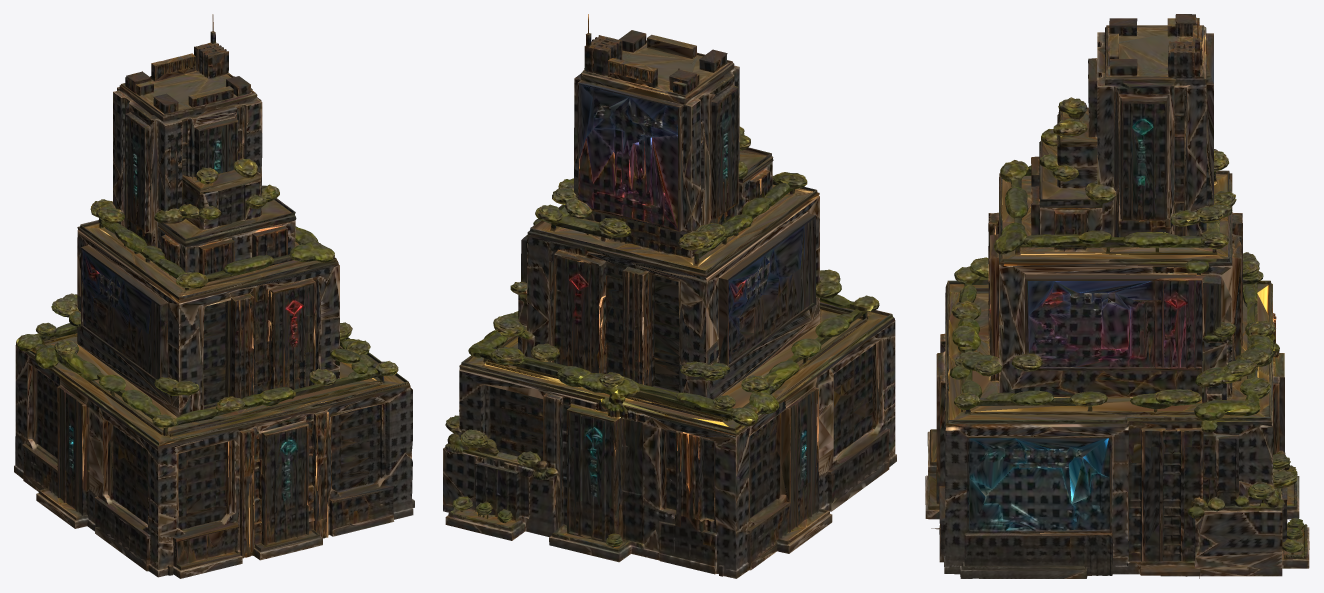
3 renders of one model, left to right at view 1: azimuth 30°, elevation 25°; view 2: azimuth 150°, elevation 25°; view 3: azimuth 270°, elevation 25°, orthographic. The views are drawn at different scales.
Visible parts, largest first — view 1: m03; view 2: m03; view 3: m03.
Boxes of the visible parts, x1,y1,x2,y2 form: m03: (14, 14, 414, 578); m03: (443, 14, 896, 578); m03: (925, 14, 1309, 578).
Size of the model in its own units: 99.32 by 150 by 103.
Materials: 1 (1 with a texture image).
